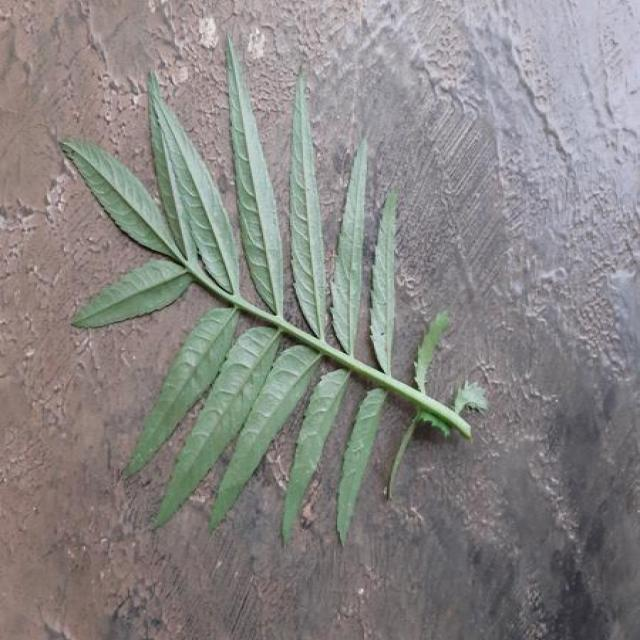marigold: (62, 42, 480, 519)
